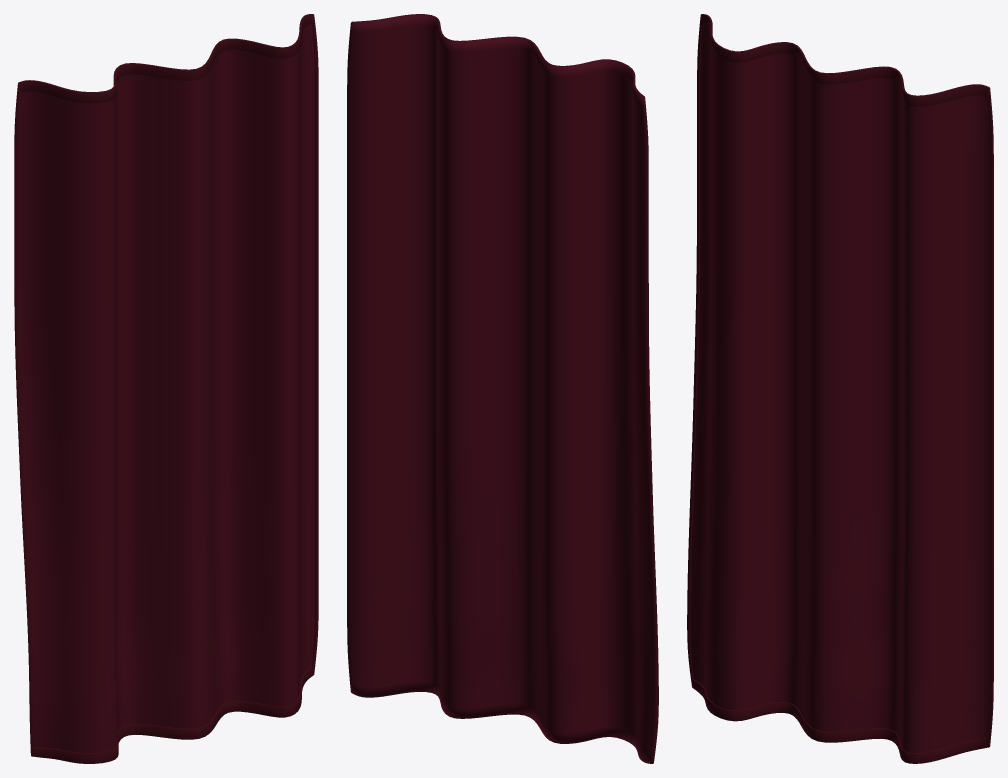
File: SM_DY_StageWingCurtain_BakedUV.fbx
3 views of the same model, side by side, from view 1: azimuth 30°, elevation 25°; view 2: azimuth 150°, elevation 25°; view 3: azimuth 330°, elevation 25° (orthographic).
Visible parts, largest first — view 1: SM_DY_StageWingCurtain; view 2: SM_DY_StageWingCurtain; view 3: SM_DY_StageWingCurtain.
Boxes of the visible parts, x1=… form: SM_DY_StageWingCurtain: x1=14, y1=14, x2=318, y2=763; SM_DY_StageWingCurtain: x1=347, y1=14, x2=658, y2=763; SM_DY_StageWingCurtain: x1=687, y1=14, x2=993, y2=763.
Bounding box in the file's own units: 131 × 25.14 × 280.
2 materials, 2 textured.
